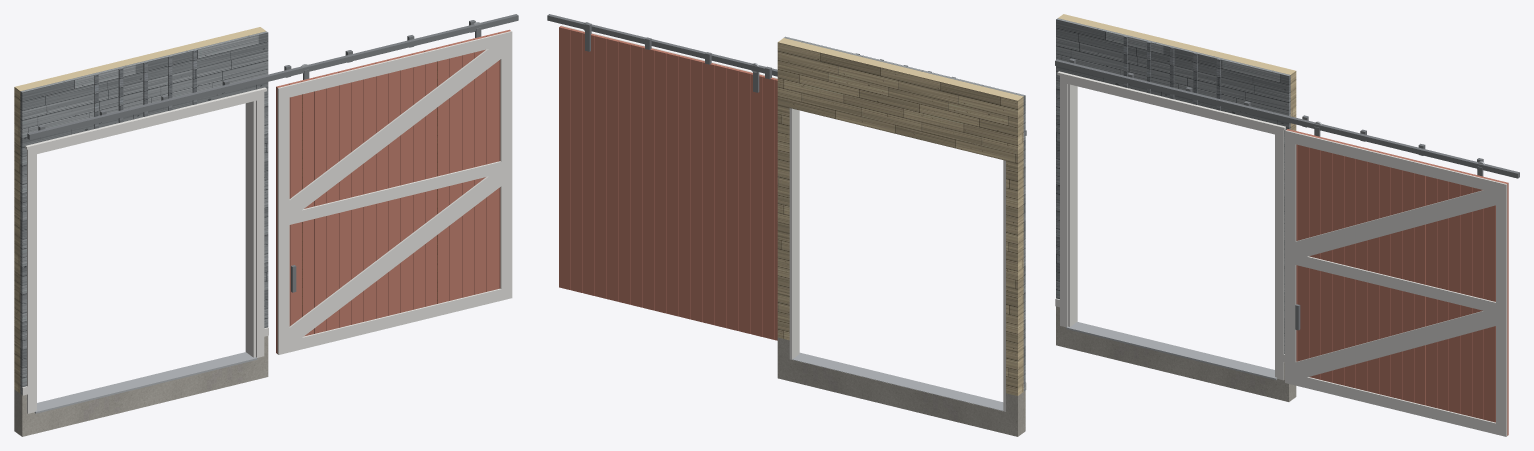
The model's file is m_bay.glb.
The picture shows the model from 3 angles, left to right: view 1: azimuth 30°, elevation 25°; view 2: azimuth 150°, elevation 25°; view 3: azimuth 330°, elevation 25°; orthographic projection. The views are drawn at different scales.
Parts seen in each view (by area): view 1: m_bay_door, m_bay_trim, m_bay_siding, m_bay_concrete, m_bay_steel_d, m_bay_plaster, m_bay_steel, m_bay_batten; view 2: m_bay_door, m_bay_plaster, m_bay_concrete, m_bay_trim, m_bay_steel_d, m_bay_steel, m_bay_siding; view 3: m_bay_door, m_bay_trim, m_bay_siding, m_bay_concrete, m_bay_steel_d, m_bay_steel, m_bay_plaster, m_bay_batten.
Boxes of the visible parts, x1,y1,x2,y2 form: m_bay_door: (276, 29, 510, 353); m_bay_trim: (22, 31, 512, 413); m_bay_siding: (20, 31, 268, 394); m_bay_concrete: (14, 336, 268, 436); m_bay_steel_d: (27, 14, 518, 292); m_bay_plaster: (14, 27, 265, 393); m_bay_steel: (34, 22, 480, 413); m_bay_batten: (94, 50, 196, 128); m_bay_door: (559, 26, 777, 340); m_bay_plaster: (777, 38, 1023, 395); m_bay_concrete: (777, 337, 1025, 436); m_bay_trim: (561, 25, 1026, 411); m_bay_steel_d: (547, 14, 1026, 135); m_bay_steel: (583, 22, 1003, 410); m_bay_siding: (784, 36, 1025, 391); m_bay_door: (1286, 129, 1508, 435); m_bay_trim: (1055, 71, 1507, 436); m_bay_siding: (1056, 18, 1290, 354); m_bay_concrete: (1056, 306, 1296, 401); m_bay_steel_d: (1055, 58, 1519, 330); m_bay_steel: (1066, 121, 1484, 379); m_bay_plaster: (1058, 14, 1296, 130); m_bay_batten: (1123, 36, 1220, 110).
Bounding box in the file's own units: 8 × 5.35 × 0.47.
Materials: 9 (5 with a texture image).
